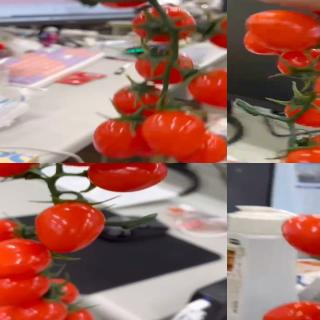tomato: (35, 203, 104, 257), (140, 109, 207, 162), (245, 10, 320, 50), (92, 116, 155, 161), (81, 163, 170, 192), (132, 3, 198, 42), (0, 236, 52, 279), (164, 128, 227, 163), (136, 49, 196, 85), (112, 81, 164, 121), (0, 271, 50, 307), (188, 64, 227, 109), (282, 215, 320, 261), (273, 46, 320, 79), (31, 276, 80, 306), (6, 297, 68, 320), (283, 91, 320, 128), (260, 301, 320, 320), (0, 218, 26, 258), (202, 10, 227, 51), (47, 303, 97, 320), (281, 147, 320, 163), (0, 163, 38, 177), (303, 132, 320, 163), (0, 303, 30, 320)
